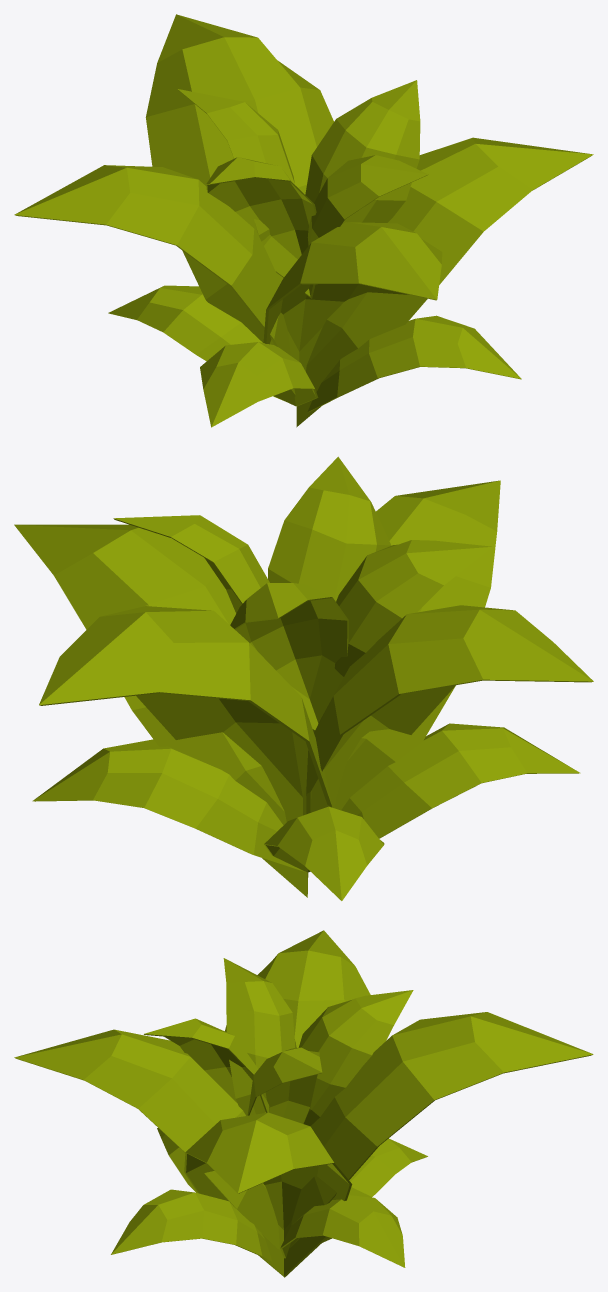
File: bush.fbx
3 views of the same model, one above another, from view 1: azimuth 30°, elevation 25°; view 2: azimuth 150°, elevation 25°; view 3: azimuth 270°, elevation 25° (orthographic). The views are drawn at different scales.
Visible parts, largest first — view 1: Sphere; view 2: Sphere; view 3: Sphere.
Boxes of the visible parts, box(x1,y1,x2,y2) form: Sphere: box(14, 14, 593, 427); Sphere: box(14, 456, 593, 900); Sphere: box(14, 930, 593, 1277).
Bounding box in the file's own units: 532 × 505 × 278.
